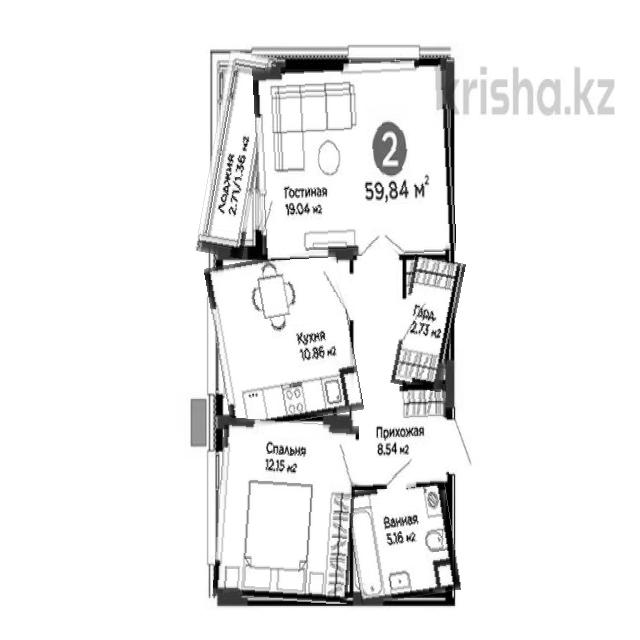balcony: (204, 52, 268, 258)
bathroom: (348, 481, 457, 601)
hallway: (351, 385, 449, 489)
kitchen: (255, 61, 454, 258), (210, 251, 358, 427), (215, 419, 356, 602)
other: (396, 256, 460, 391)
